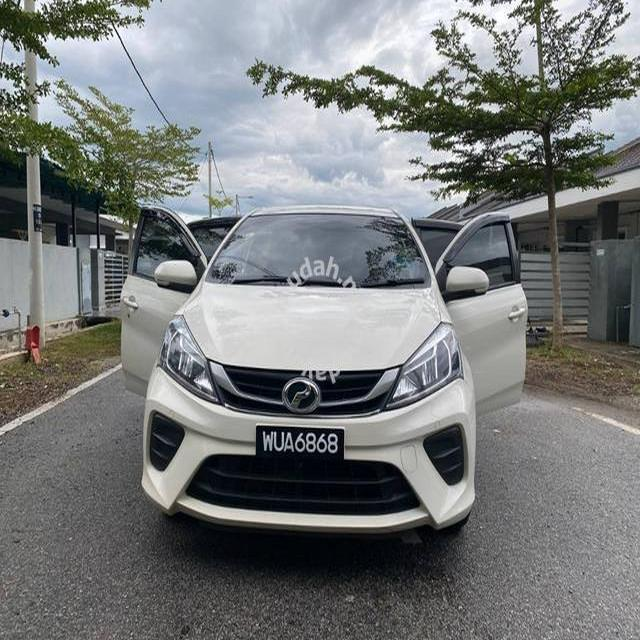License_Plate: (258, 424, 348, 466)
car: (118, 189, 538, 561)
